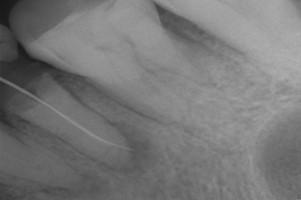Furcation Involvement: (110, 121, 157, 174)
